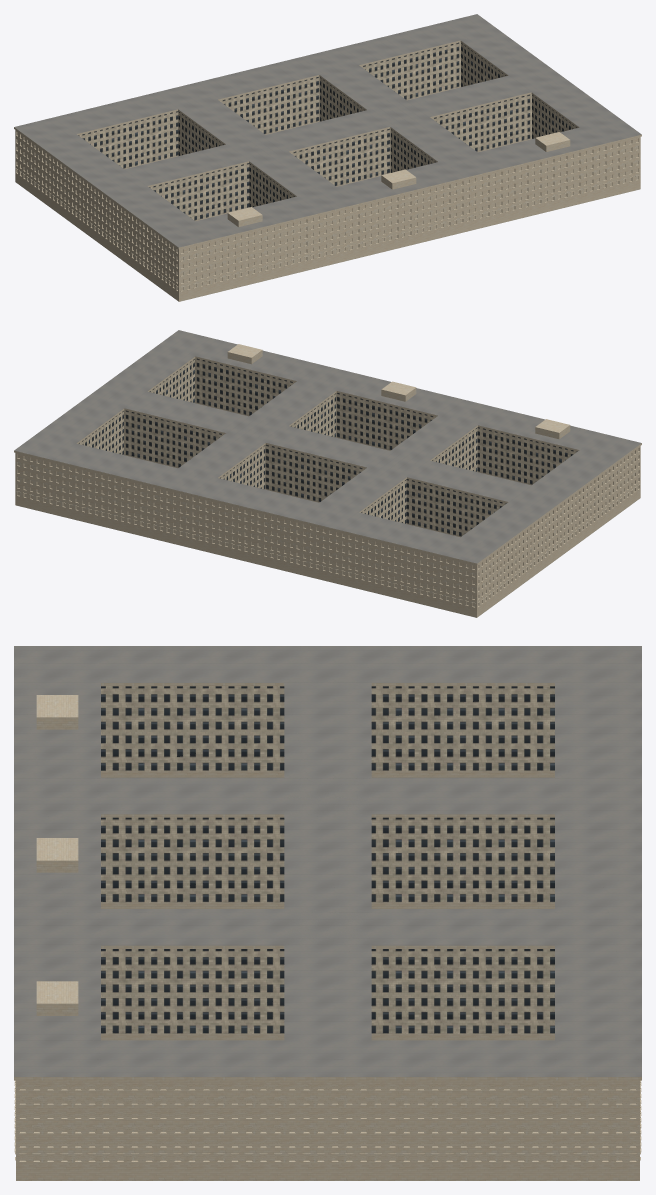
File: state_dept.glb
3 renders of one model, top to bottom at view 1: azimuth 30°, elevation 25°; view 2: azimuth 150°, elevation 25°; view 3: azimuth 270°, elevation 25°, orthographic. The views are drawn at different scales.
Parts seen in each view (by area): view 1: state_dept; view 2: state_dept; view 3: state_dept.
Boxes of the visible parts, x1=… form: state_dept: x1=14, y1=14, x2=641, y2=301; state_dept: x1=14, y1=330, x2=641, y2=617; state_dept: x1=14, y1=646, x2=641, y2=1180.
Bounding box in the file's own units: 270 × 34.08 × 166.
Materials: 4 (4 with a texture image).
